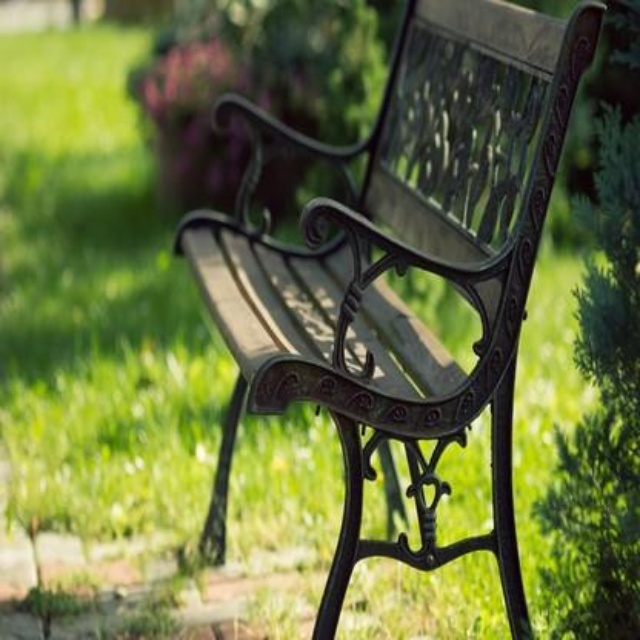obstacle: (151, 5, 603, 632)
